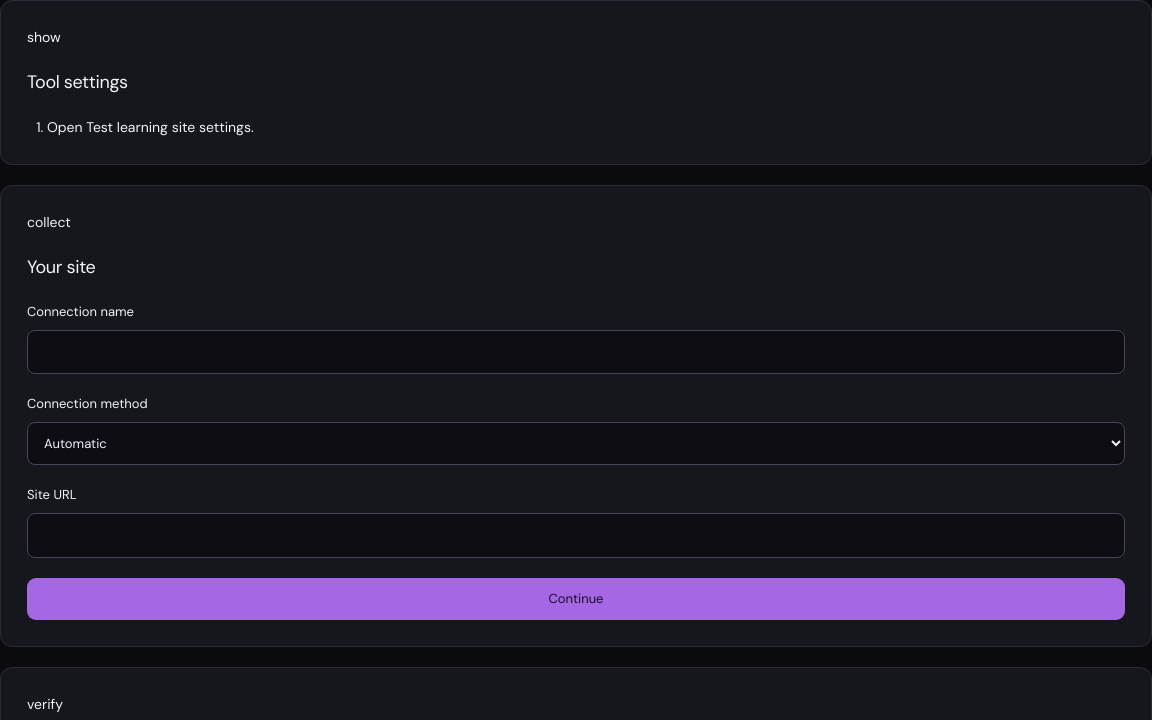
manifest portal shell › uses the chosen method's authority before create
Select "Manual" in the dropdown labelled "Connection method" at (576,444), box top-left (27, 422), bottom-right (1125, 465)
(page scrolled)
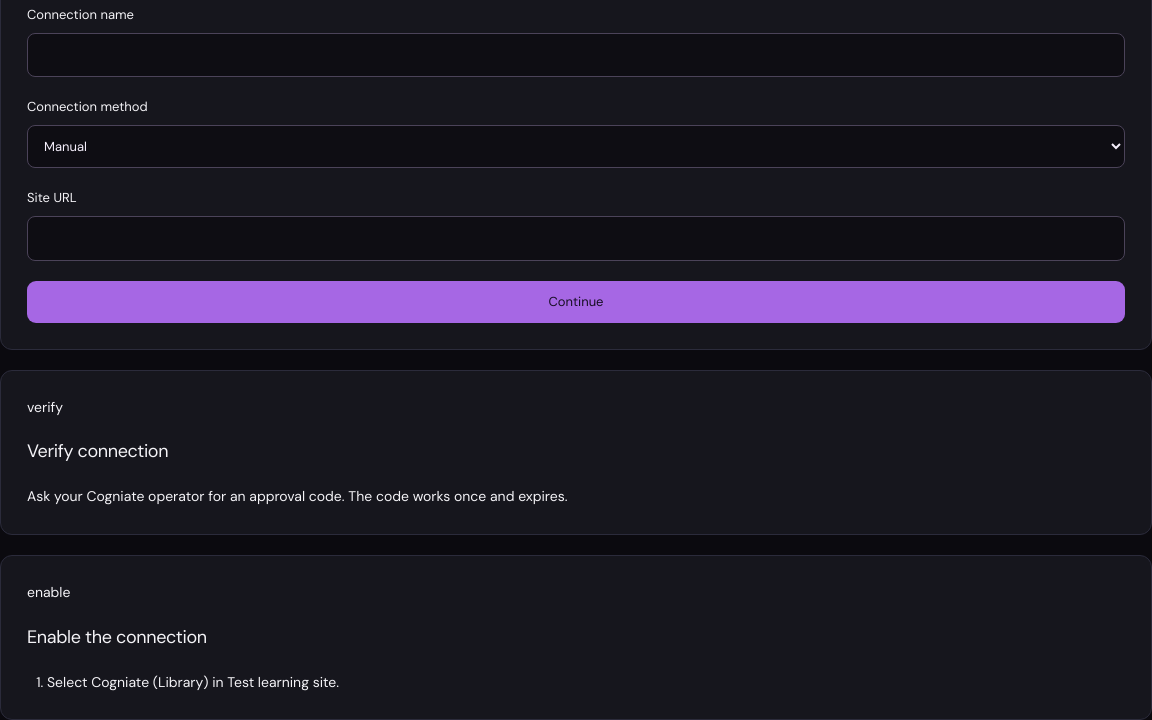
Expected: the text "Ask your Cogniate operator" is shown, top-left (27, 487), bottom-right (568, 505)
